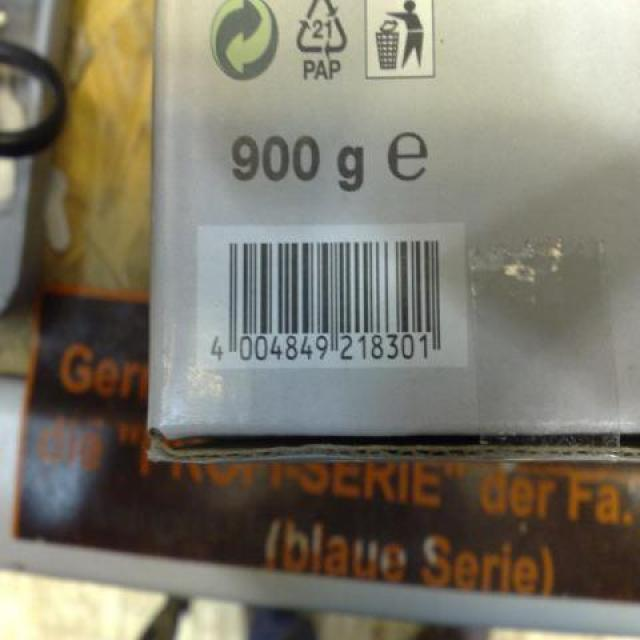Barcode: (197, 224, 468, 367)
